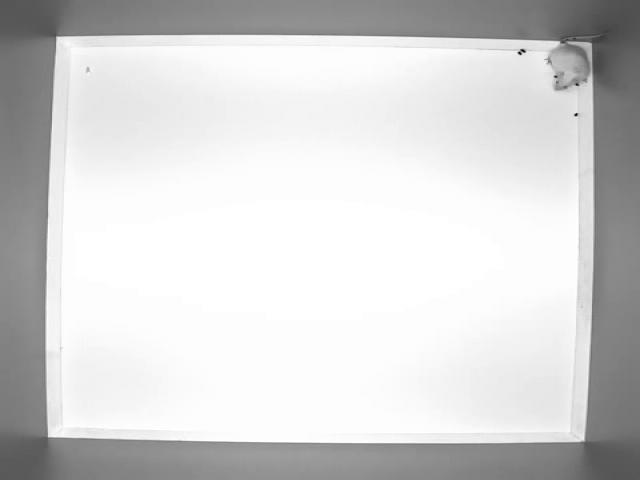Tikus: (546, 30, 606, 92)
